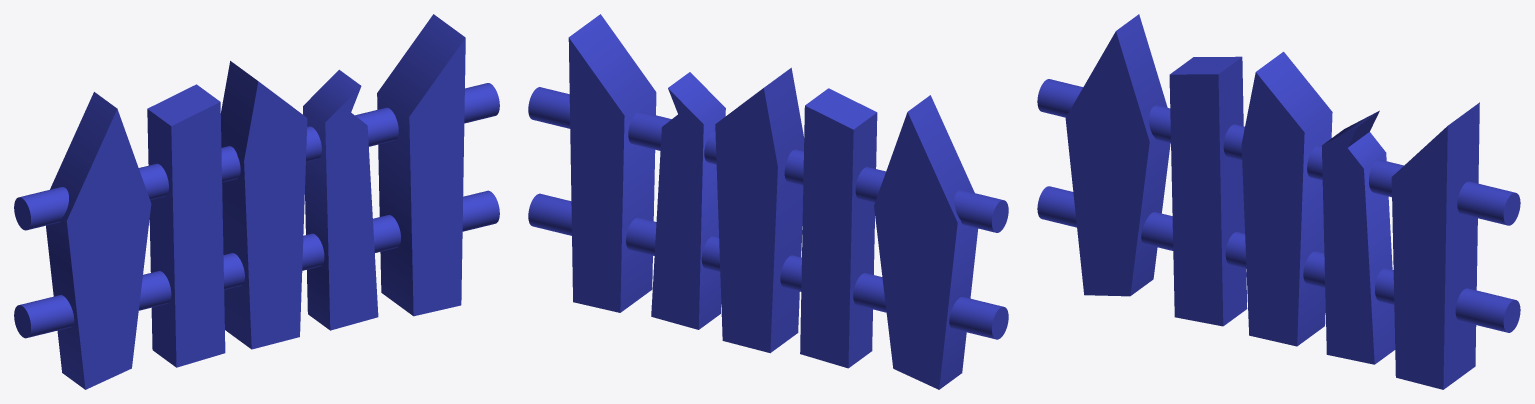
The model's file is Fench.fbx.
3 views of the same model, side by side, from view 1: azimuth 30°, elevation 25°; view 2: azimuth 150°, elevation 25°; view 3: azimuth 330°, elevation 25° (orthographic).
Visible parts, largest first — view 1: root (×7); view 2: root (×7); view 3: root (×7).
Part boxes in pixels (box(x1,y1,x2,y2)): root (×7): box(14, 14, 499, 389); root (×7): box(528, 14, 1008, 389); root (×7): box(1037, 14, 1520, 389).
Size of the model in its own units: 0.5987 by 0.3338 by 0.0781.
